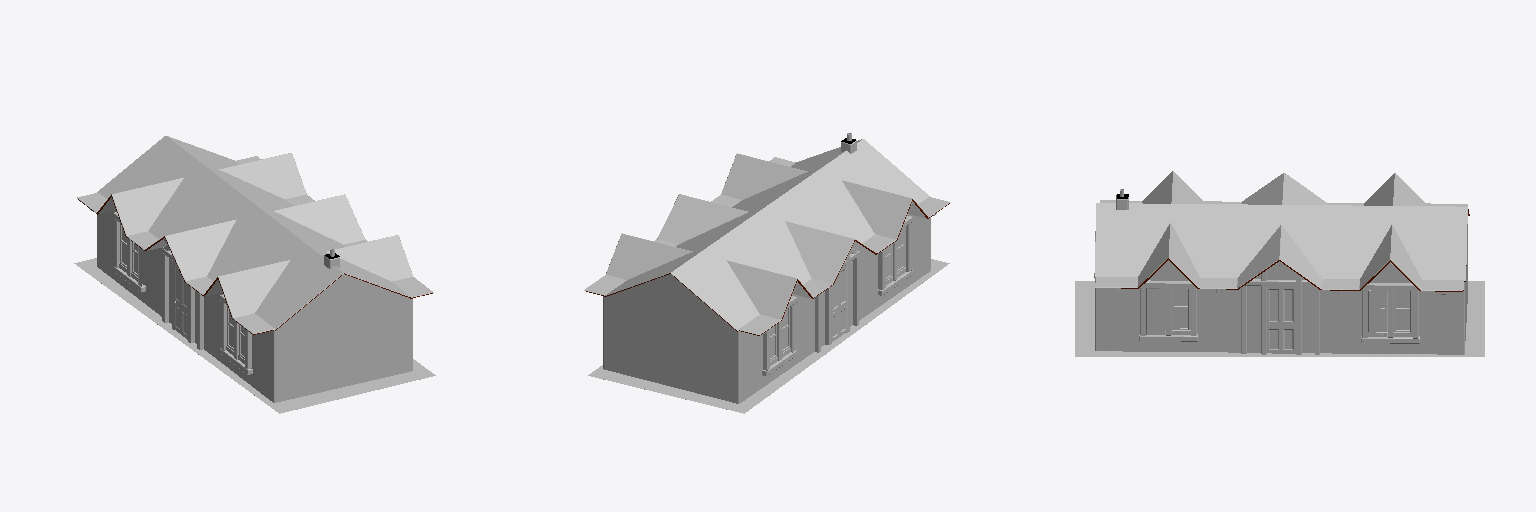
The model's file is houseandfloor.obj.
The picture shows the model from 3 angles: view 1: azimuth 30°, elevation 25°; view 2: azimuth 150°, elevation 25°; view 3: azimuth 270°, elevation 25°; orthographic projection.
Parts seen in each view (by area): view 1: abandoned_cottage, Plane001; view 2: abandoned_cottage, Plane001; view 3: abandoned_cottage, Plane001.
Boxes of the visible parts, x1,y1,x2,y2 form: abandoned_cottage: [77, 136, 433, 402]; Plane001: [74, 258, 435, 413]; abandoned_cottage: [584, 133, 950, 403]; Plane001: [588, 259, 949, 413]; abandoned_cottage: [1094, 171, 1469, 354]; Plane001: [1075, 281, 1484, 356].
Bounding box in the file's own units: 49.58 × 33.16 × 95.11.